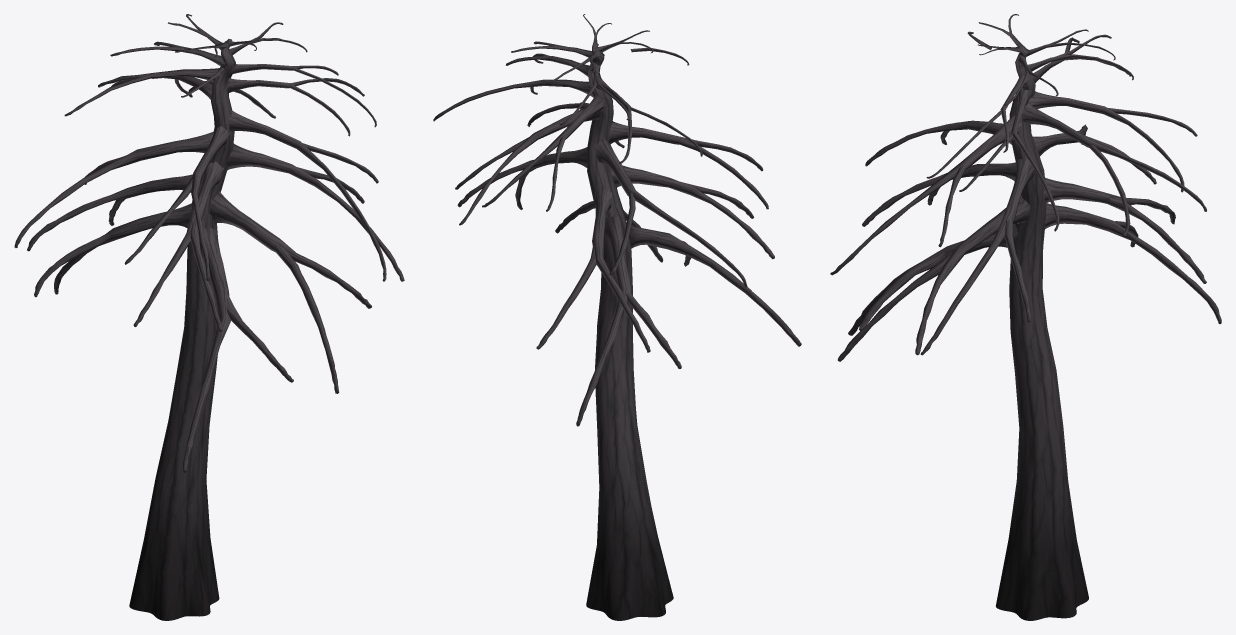
Rendered from DeadTree_4.glb.
3 renders of one model, left to right at view 1: azimuth 30°, elevation 25°; view 2: azimuth 150°, elevation 25°; view 3: azimuth 270°, elevation 25°, orthographic. The views are drawn at different scales.
Parts seen in each view (by area): view 1: DeadTree_4; view 2: DeadTree_4; view 3: DeadTree_4.
Part boxes in pixels (bbox=[...]): DeadTree_4: bbox=[14, 14, 404, 620]; DeadTree_4: bbox=[433, 14, 801, 620]; DeadTree_4: bbox=[830, 14, 1221, 620].
Size of the model in its own units: 7.96 by 12.77 by 7.73.
1 material, 1 textured.
